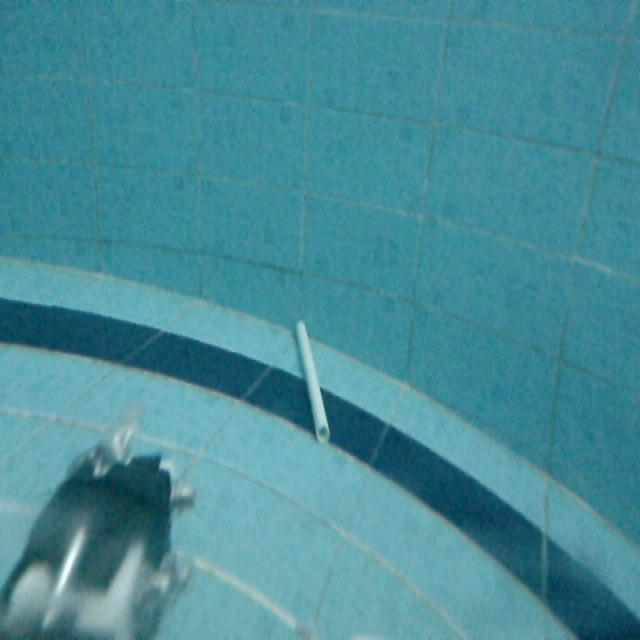Cube: (292, 316, 333, 443)
